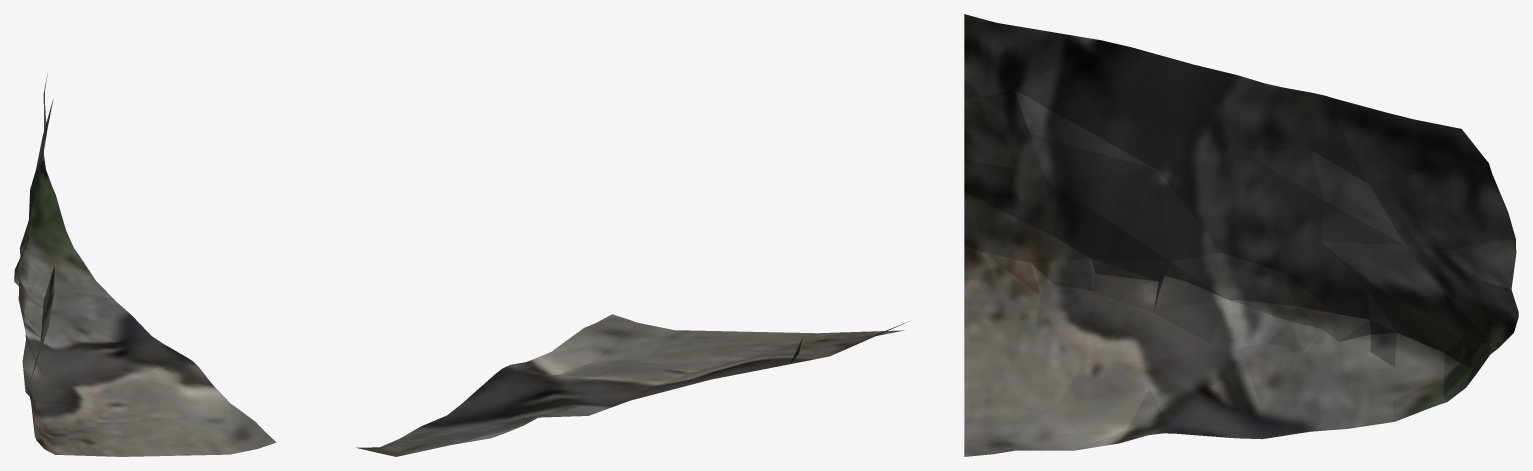
3 renders of one model, left to right at view 1: azimuth 30°, elevation 25°; view 2: azimuth 150°, elevation 25°; view 3: azimuth 270°, elevation 25°, orthographic. The views are drawn at different scales.
Bounding box in the file's own units: 0.4571 × 0.4946 × 0.7524.
2 materials, 2 textured.
